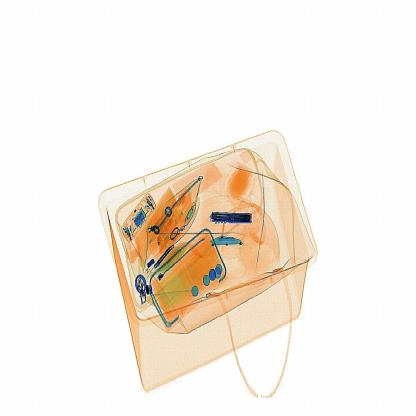scissors: (206, 207, 255, 229)
